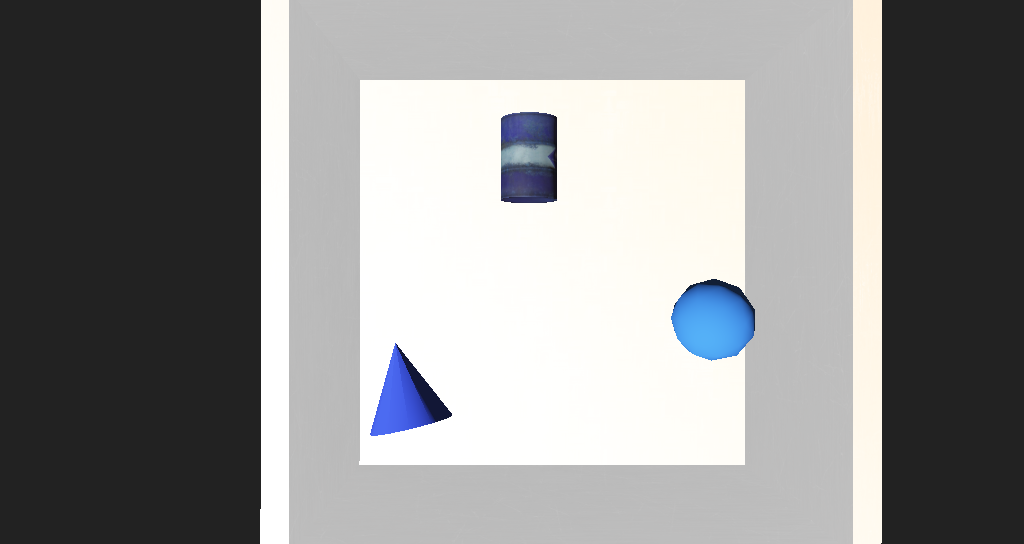cone: (465, 181, 505, 229)
cylinder: (337, 296, 431, 363)
sphere: (593, 274, 660, 317)
